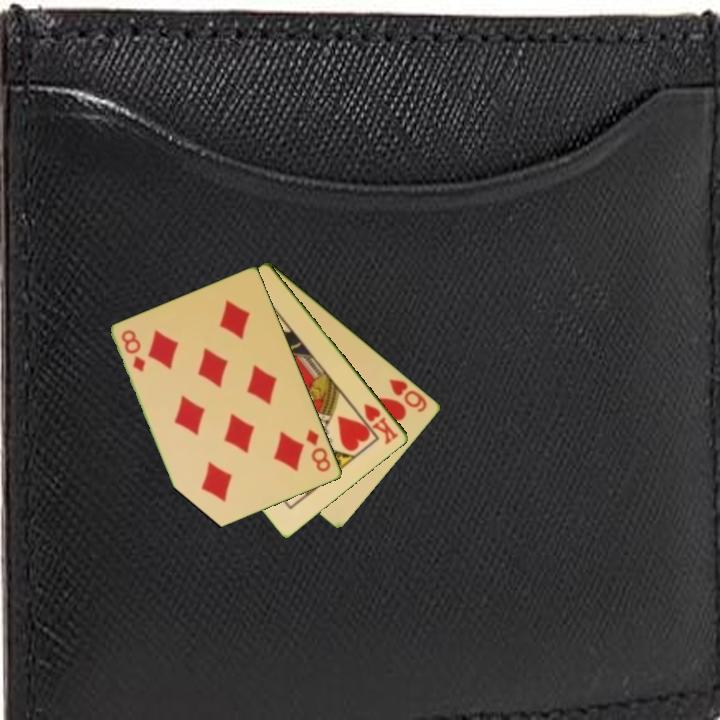6h: (386, 375, 430, 415)
8d: (303, 425, 334, 475), (118, 326, 149, 375)
Kh: (360, 400, 402, 447)
